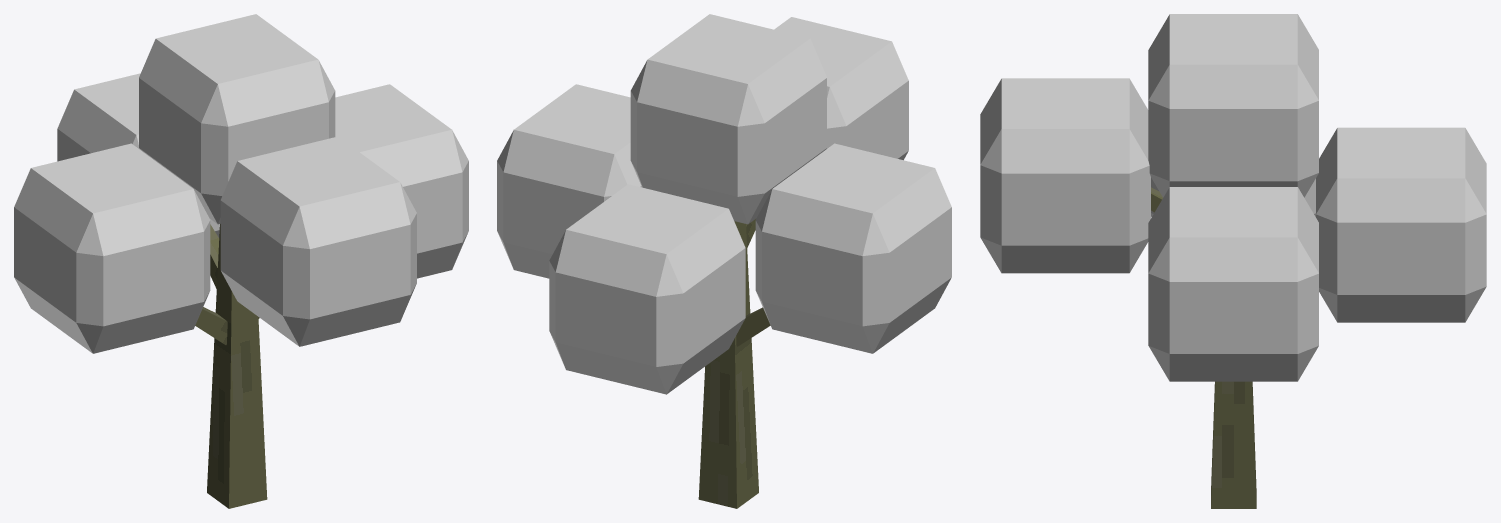
The model's file is tree.gltf.
3 renders of one model, left to right at view 1: azimuth 30°, elevation 25°; view 2: azimuth 150°, elevation 25°; view 3: azimuth 270°, elevation 25°, orthographic. The views are drawn at different scales.
Visible parts, largest first — view 1: leaves_3, leaves_2, leaves_1, leaves_4, trunk, leaves_5, branch_3; view 2: leaves_5, leaves_3, leaves_1, leaves_4, leaves_2, trunk, branch_3; view 3: leaves_4, leaves_2, leaves_5, leaves_1, trunk.
Part boxes in pixels (x1,y1,x2,y2): leaves_3: (14, 143, 210, 353); leaves_2: (220, 136, 416, 346); leaves_1: (139, 14, 335, 224); leaves_4: (335, 84, 468, 278); trunk: (207, 224, 267, 508); leaves_5: (57, 73, 219, 237); branch_3: (195, 307, 227, 344); leaves_5: (549, 184, 745, 394); leaves_3: (755, 143, 951, 353); leaves_1: (630, 14, 826, 224); leaves_4: (497, 84, 641, 278); leaves_2: (774, 17, 908, 160); trunk: (698, 221, 758, 508); branch_3: (736, 307, 770, 346); leaves_4: (1148, 187, 1318, 381); leaves_2: (980, 78, 1150, 273); leaves_5: (1316, 127, 1486, 322); leaves_1: (1148, 14, 1318, 197); trunk: (1211, 381, 1256, 508).
Size of the model in its own units: 10.24 by 11.15 by 11.12.
2 materials, 1 textured.
